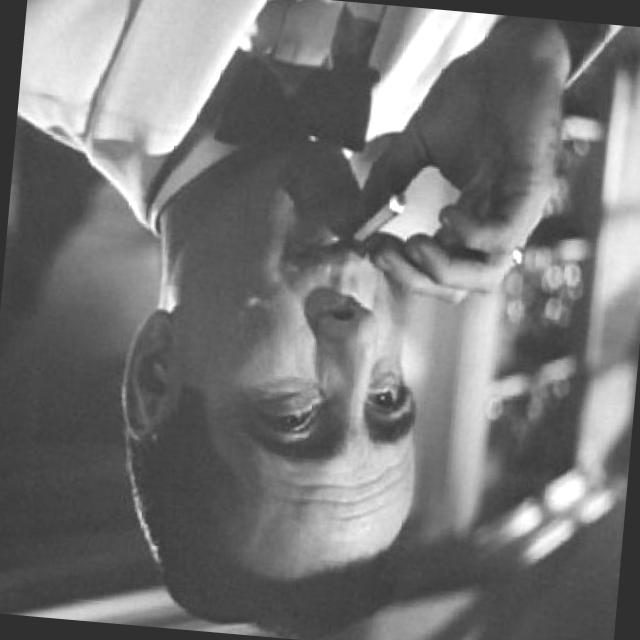cigarette: (348, 187, 408, 250)
